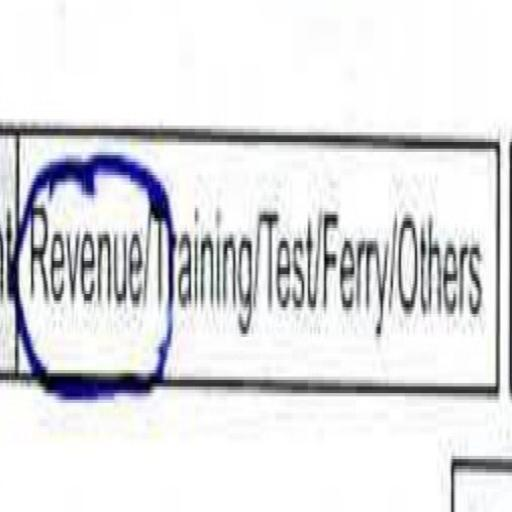check: (26, 126, 154, 455)
